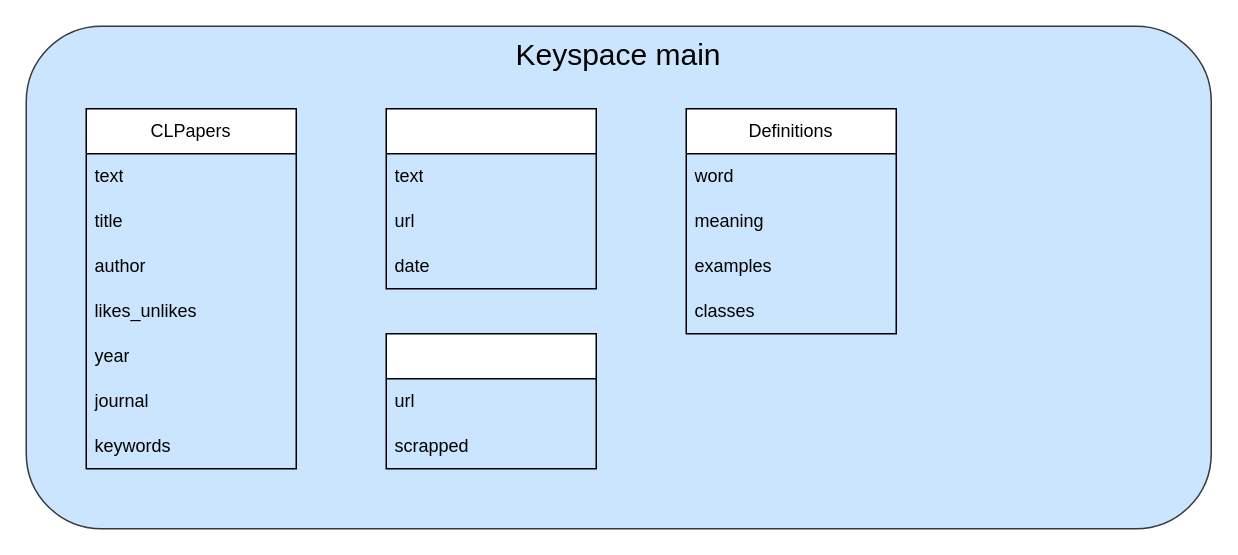
This 1238x555 diagram has some shape labels left out. The box of each missing label's shape, as (x1, y1, x2, y2) in pixels:
News: (385, 107, 596, 289)
Urls: (385, 332, 596, 469)
